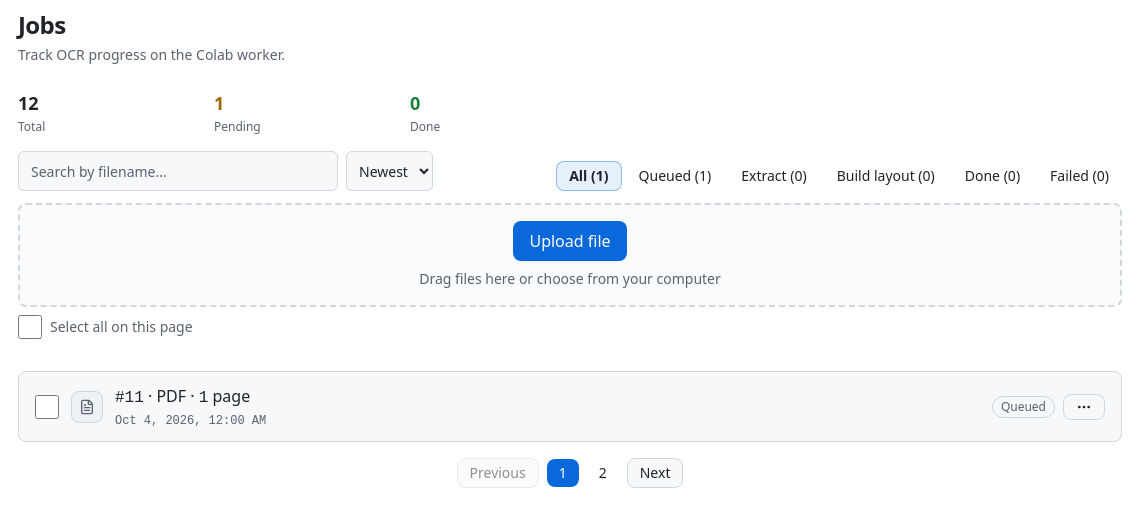
Test case: pagination shows page controls and click page 2 refetches the list
Expected: the list item with test id "job-row-11" is shown, [19, 372, 1121, 441]
Expected: the button with test id "btn-page-prev" is disabled, [456, 458, 539, 488]
Click the button with test id "btn-page-2".
click(603, 473)  # box [587, 459, 619, 487]
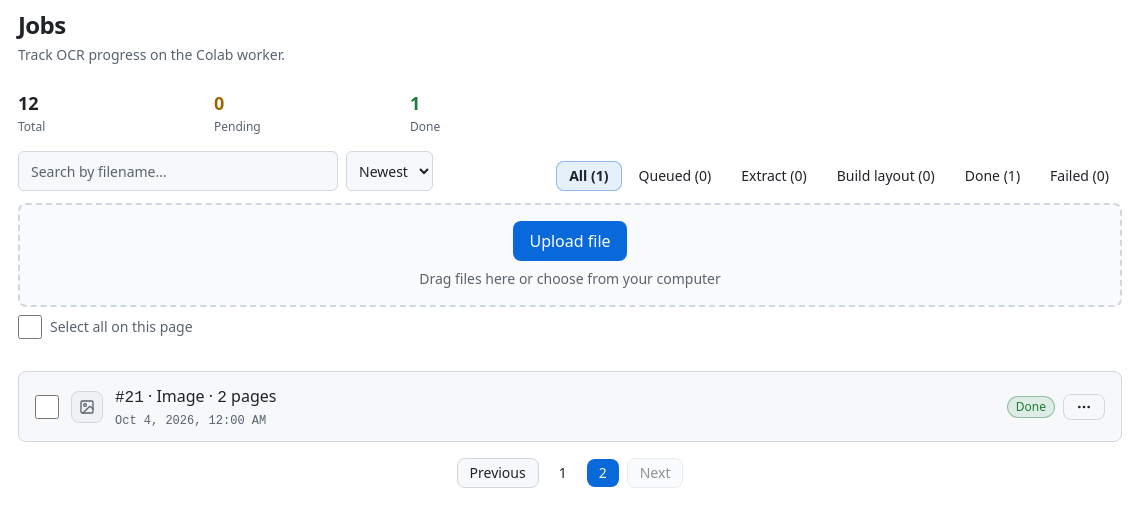
Expected: the list item with test id "job-row-21" is shown, [19, 372, 1121, 441]
